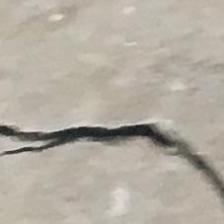Crack: (0, 106, 224, 199)
